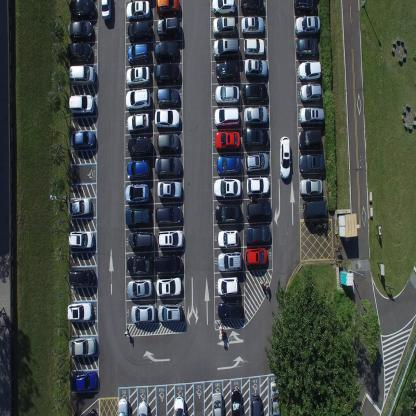car: (70, 369, 98, 394), (69, 336, 97, 360), (212, 175, 242, 197), (68, 93, 95, 116), (66, 302, 94, 324), (245, 197, 270, 221), (214, 200, 240, 223), (298, 151, 324, 174), (130, 302, 156, 325), (127, 277, 153, 300), (124, 205, 150, 228), (278, 134, 291, 180), (125, 88, 151, 111), (301, 198, 328, 220), (154, 155, 181, 177), (126, 254, 153, 276), (242, 127, 269, 149), (154, 204, 182, 225), (68, 65, 96, 86), (68, 0, 96, 21), (243, 245, 268, 268), (213, 105, 238, 128), (216, 154, 242, 176), (154, 109, 180, 131), (70, 130, 96, 152), (212, 38, 238, 60), (157, 228, 184, 249), (155, 276, 182, 297), (241, 83, 268, 104), (213, 83, 240, 104), (153, 41, 180, 62), (66, 42, 93, 63), (153, 63, 180, 84), (154, 254, 182, 274), (126, 158, 150, 181), (215, 60, 238, 84), (298, 59, 322, 82), (212, 15, 236, 38), (67, 269, 96, 288), (218, 298, 243, 320), (129, 229, 154, 251), (125, 182, 150, 204), (127, 135, 152, 157), (214, 130, 239, 152), (155, 86, 180, 108), (216, 250, 242, 271), (157, 302, 183, 323), (68, 231, 94, 252), (125, 0, 151, 21), (244, 224, 271, 244), (294, 14, 321, 34), (67, 22, 94, 42), (297, 127, 321, 149), (126, 112, 150, 134), (244, 58, 268, 80), (298, 82, 322, 104), (156, 18, 180, 40), (127, 20, 151, 42), (126, 66, 150, 88), (157, 179, 182, 200), (67, 197, 92, 218), (243, 106, 268, 127), (299, 106, 324, 127), (127, 42, 150, 64), (156, 133, 180, 154), (240, 16, 265, 36), (296, 36, 318, 58), (244, 152, 268, 172), (216, 274, 238, 295), (246, 174, 269, 194), (155, 0, 180, 18), (299, 177, 322, 196), (217, 228, 239, 247), (242, 39, 264, 58), (269, 379, 280, 415), (230, 386, 243, 416), (211, 0, 236, 15), (239, 0, 265, 14), (293, 0, 317, 13), (211, 391, 223, 416), (249, 391, 261, 416), (100, 0, 113, 22), (172, 395, 186, 415), (117, 397, 129, 415), (137, 400, 149, 415), (83, 407, 99, 415)
